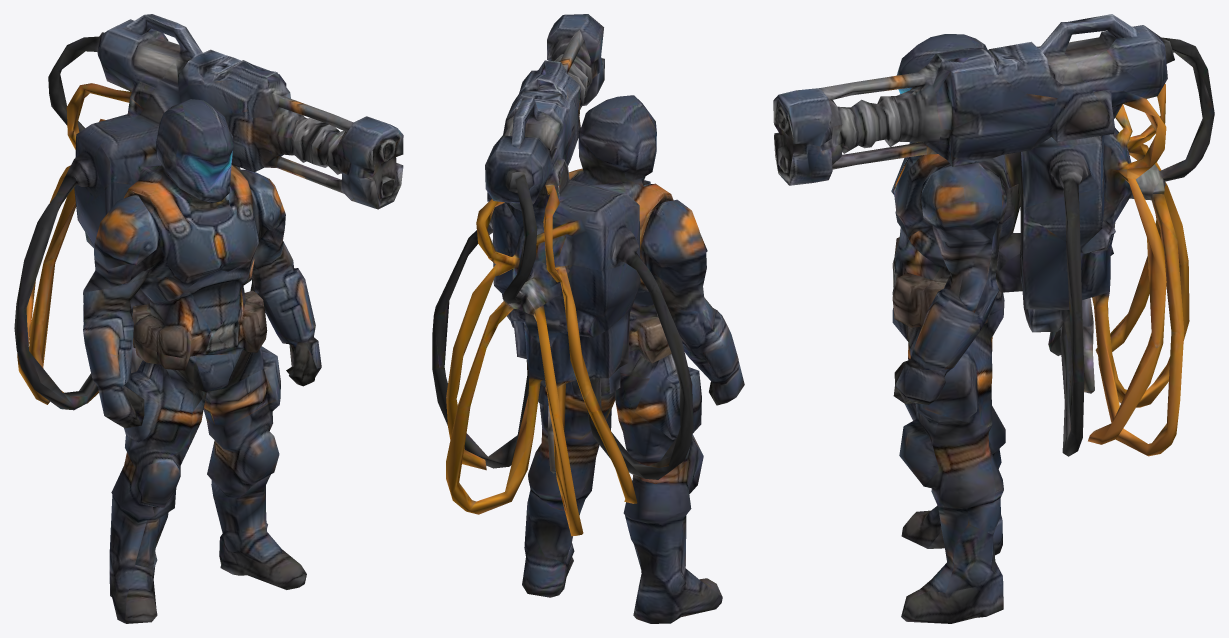
File: caster.glb
The picture shows the model from 3 angles, left to right: view 1: azimuth 30°, elevation 25°; view 2: azimuth 150°, elevation 25°; view 3: azimuth 270°, elevation 25°; orthographic projection. The views are drawn at different scales.
Visible parts, largest first — view 1: human-caster; view 2: human-caster; view 3: human-caster.
Boxes of the visible parts, <box> form: human-caster: <box>14,14,403,623</box>; human-caster: <box>432,14,744,623</box>; human-caster: <box>773,14,1214,623</box>.
Size of the model in its own units: 0.7664 by 1.45 by 1.01.
Materials: 1 (1 with a texture image).
